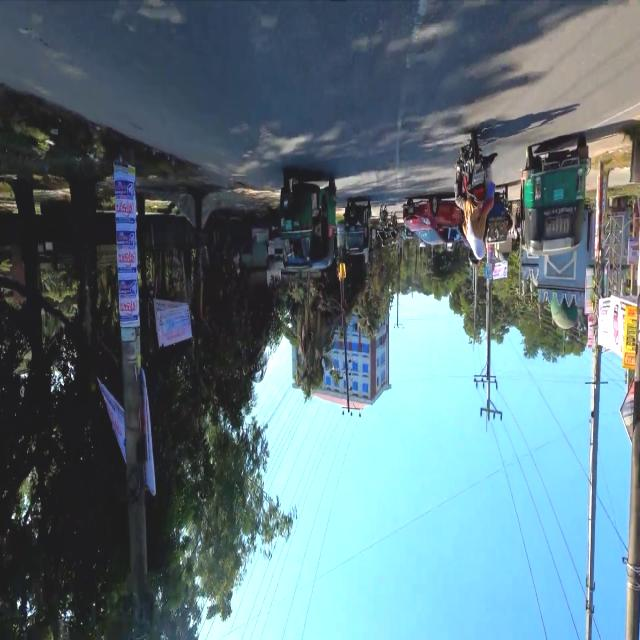red: (401, 195, 455, 246)
